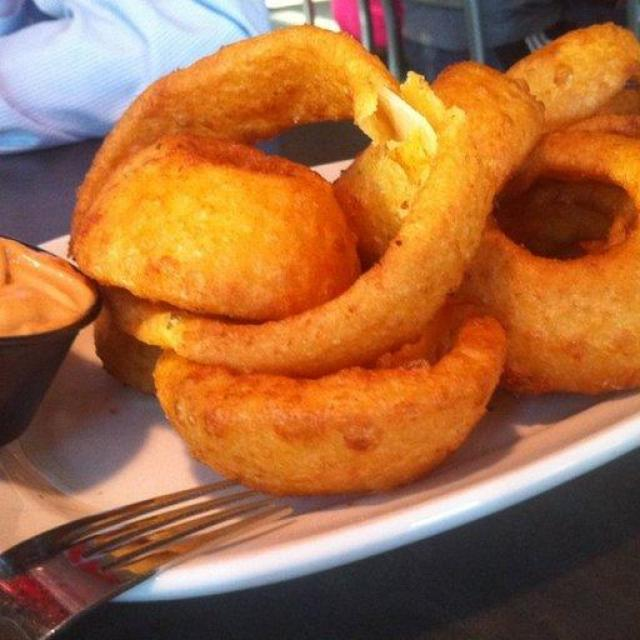food_waste: (62, 7, 640, 501)
